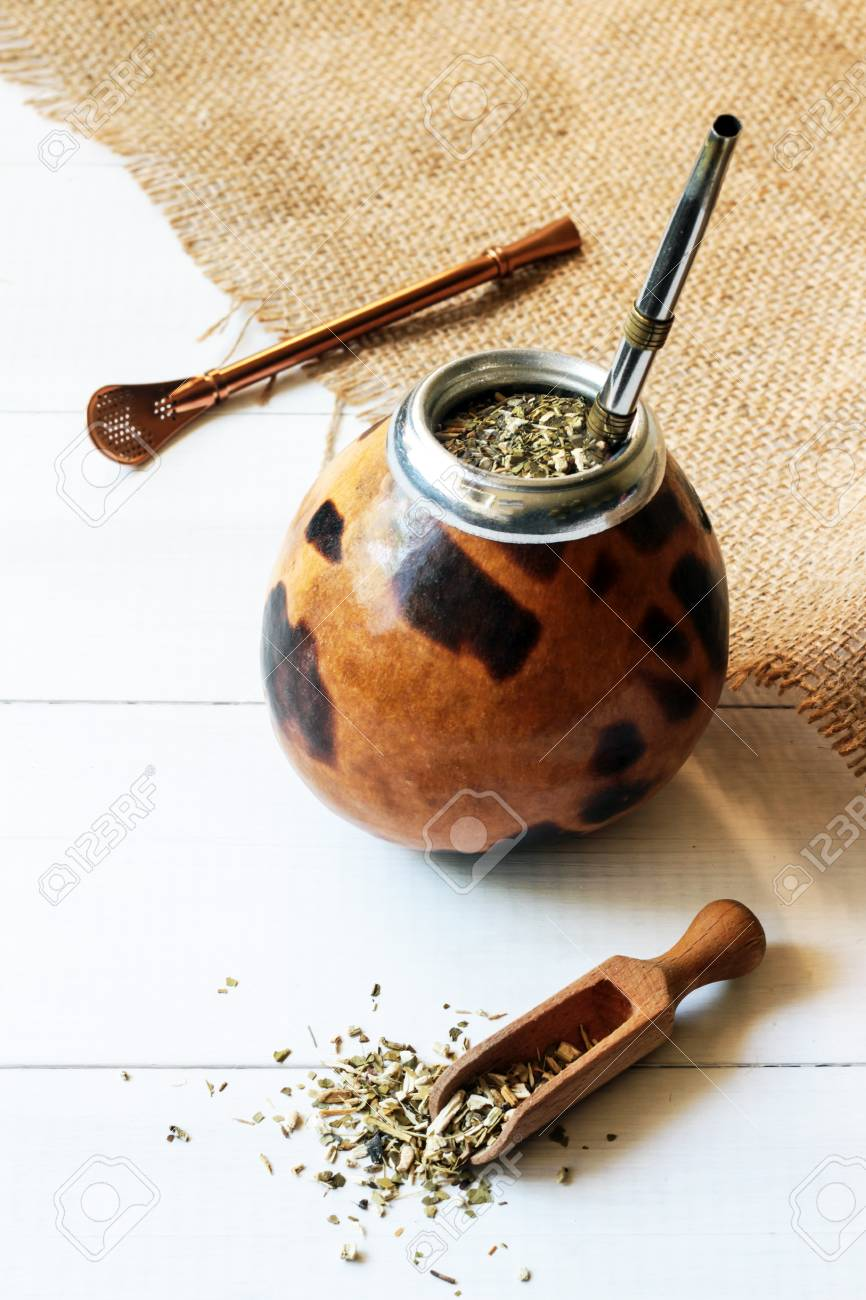guampa: (184, 108, 762, 902)
